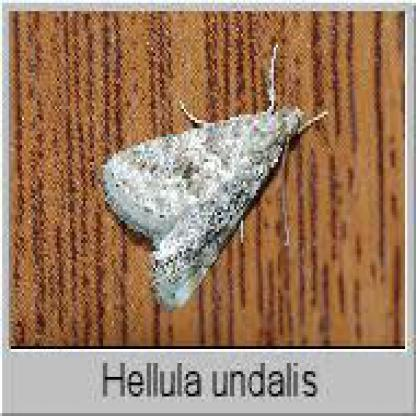Hellula undalis: (98, 38, 337, 317)
